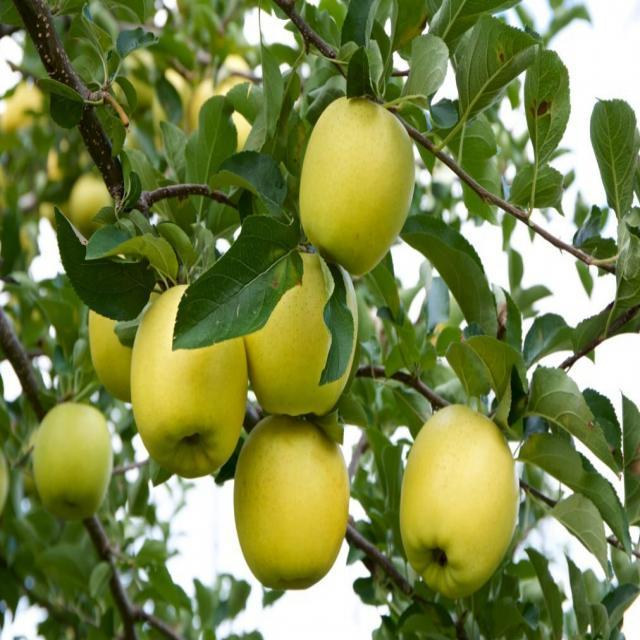Green Apple: (406, 397, 514, 591), (138, 280, 247, 472), (304, 93, 422, 267), (240, 404, 352, 583), (251, 250, 359, 406), (38, 389, 115, 510), (89, 276, 163, 379), (76, 167, 115, 227), (206, 79, 248, 132), (120, 55, 158, 110), (13, 88, 46, 138), (168, 74, 194, 129)
